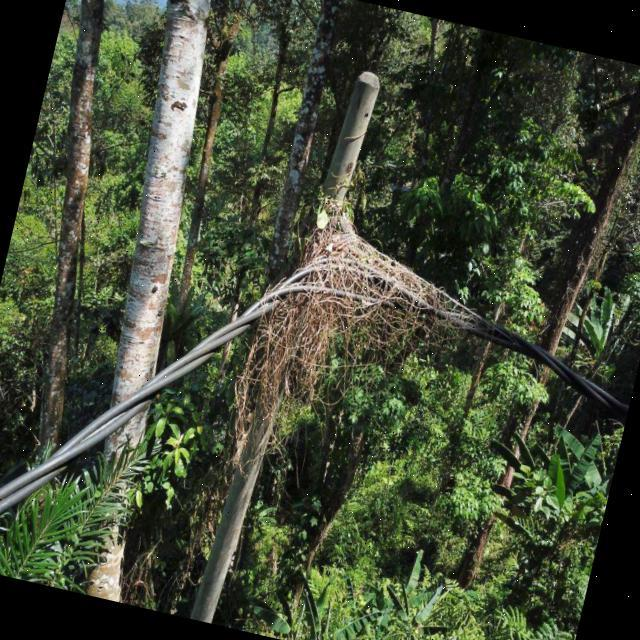critical vegetation: (208, 168, 508, 503)
